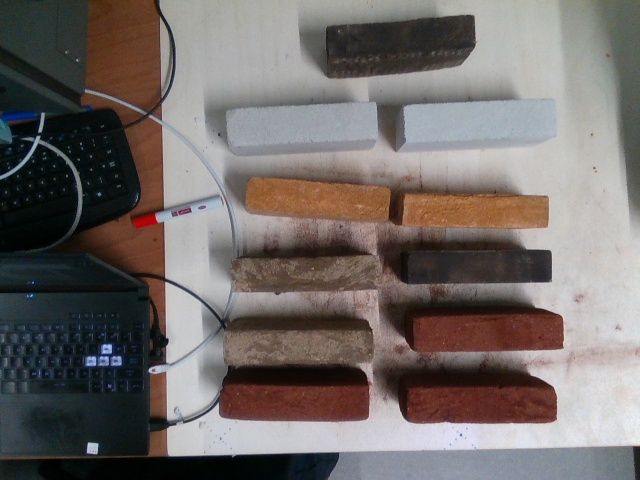brick-side: (327, 13, 478, 60), (228, 101, 378, 145), (413, 311, 562, 354), (406, 100, 555, 142), (222, 382, 370, 423), (405, 385, 554, 423), (250, 179, 391, 218), (404, 192, 549, 229), (237, 254, 379, 291), (228, 329, 373, 365), (405, 250, 554, 284)
